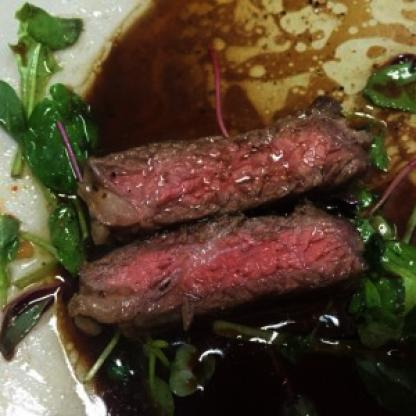Carne: (95, 106, 364, 239), (80, 199, 357, 326)
